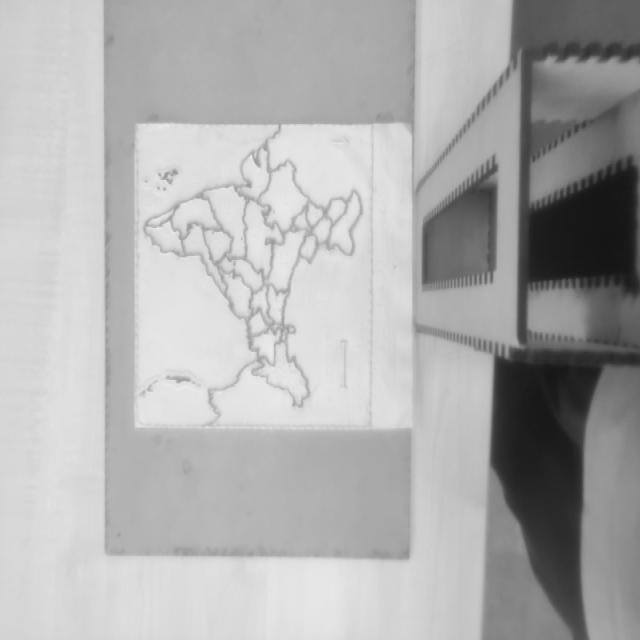map: (134, 123, 373, 427)
